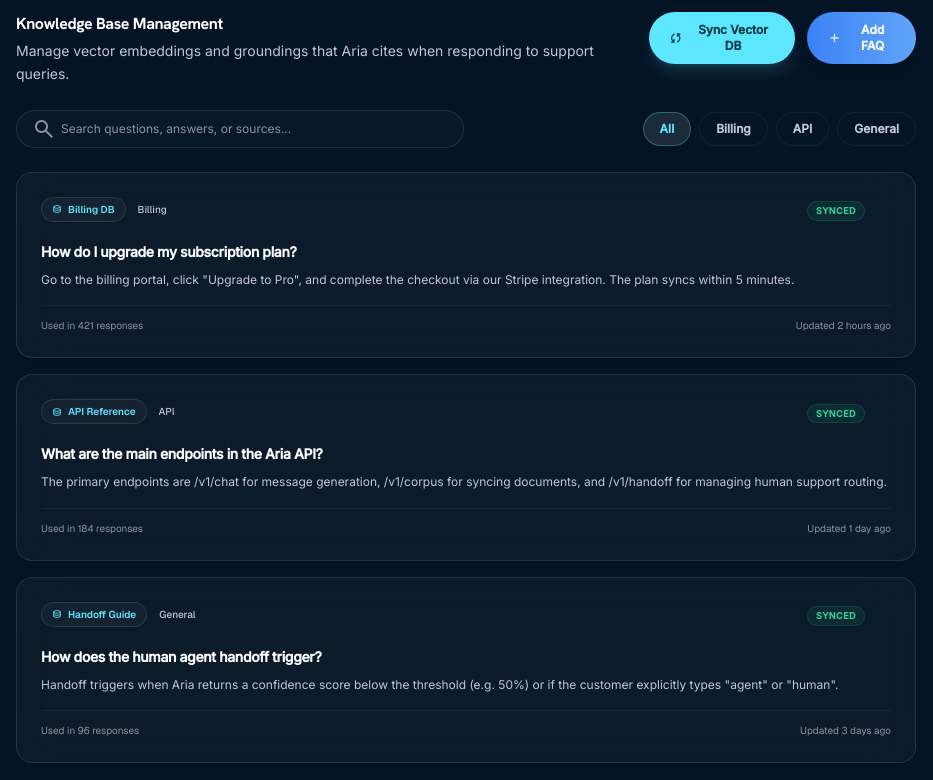
it: KnowledgeBasePage Component › filters FAQ items by search query
Note: Search for "upgrade"
In the field with placeholder "Search questions, answers, or sources...": [240, 128] box [16,110,464,148], type "upgrade"
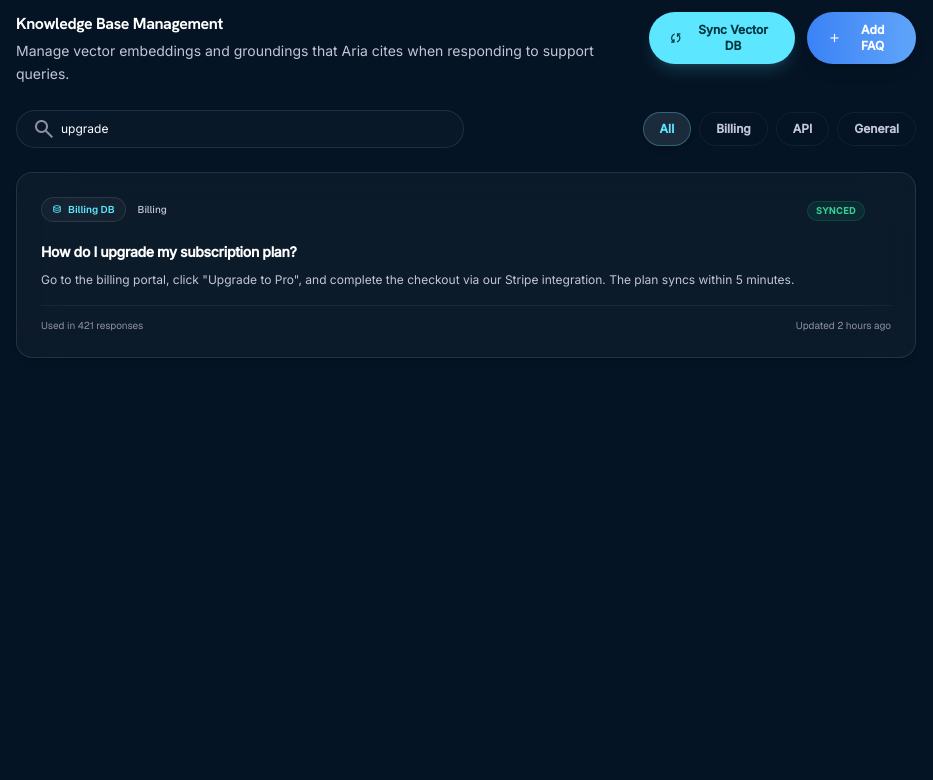
Expected: the heading "How do I upgrade my subscription plan?" is shown, [41,242,296,260]
Result: the heading "What are the main endpoints in the Aria API?" is gone
